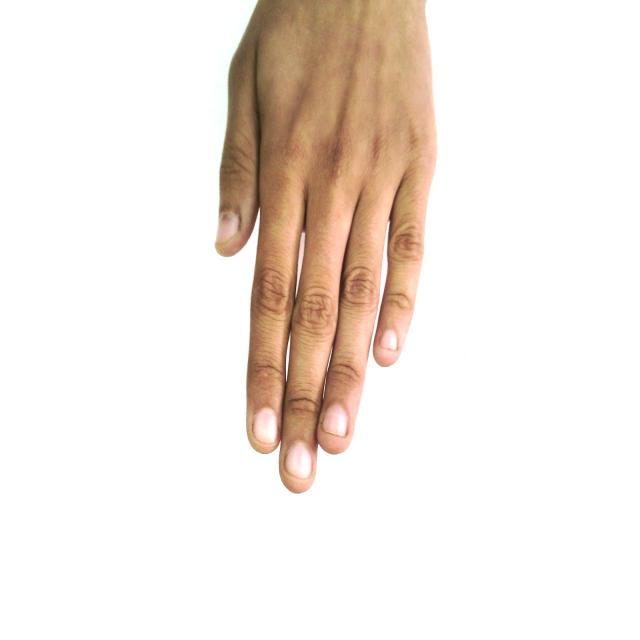Fingernail: (286, 443, 311, 477), (255, 409, 276, 445), (325, 405, 347, 436), (217, 212, 239, 242), (380, 329, 396, 349)
